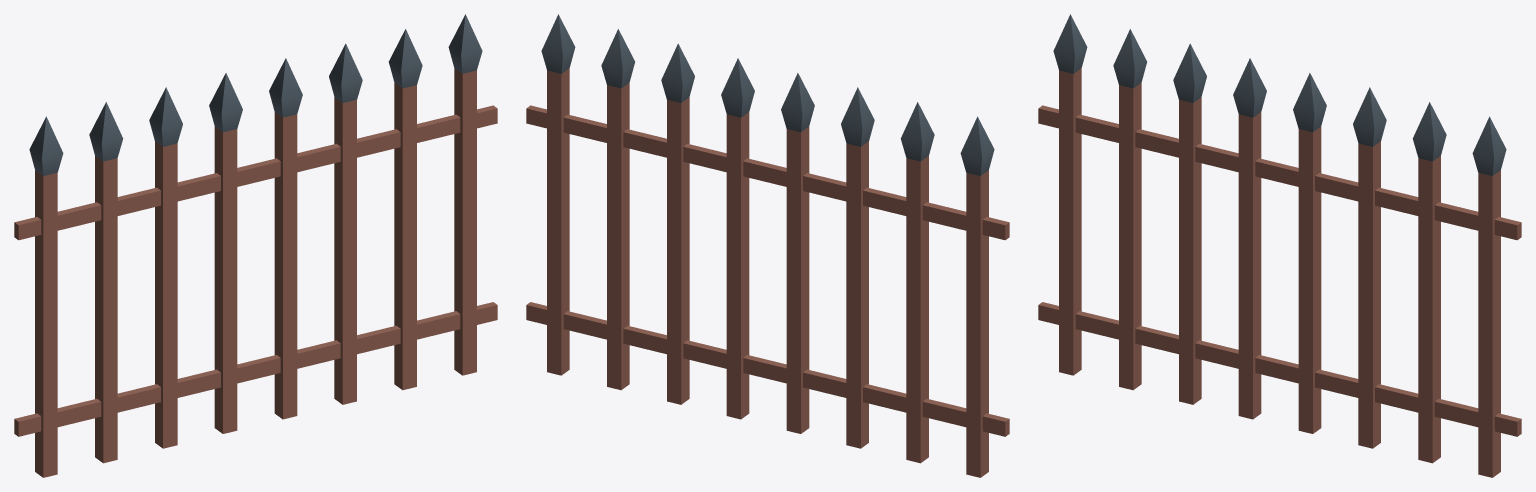
Rendered from fence_v1.fbx.
The picture shows the model from 3 angles, left to right: view 1: azimuth 30°, elevation 25°; view 2: azimuth 150°, elevation 25°; view 3: azimuth 330°, elevation 25°; orthographic projection.
Parts seen in each view (by area): view 1: fence1; view 2: fence1; view 3: fence1.
Part boxes in pixels (x1,y1,x2,y2): fence1: (14, 14, 497, 477); fence1: (526, 14, 1009, 477); fence1: (1038, 14, 1521, 477).
Bounding box in the file's own units: 1 × 0.712 × 0.045.
